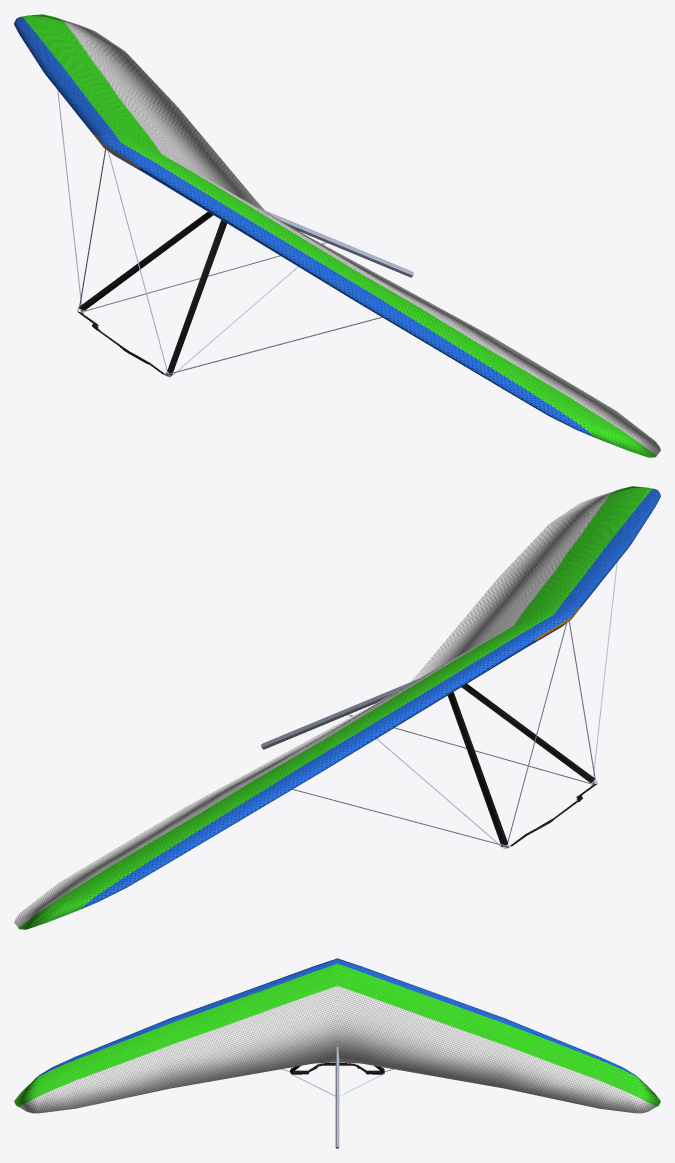
Rendered from hang-glider-green-launch-cbj_LOD01.gltf.
The picture shows the model from 3 angles, top to bottom: view 1: azimuth 30°, elevation 25°; view 2: azimuth 150°, elevation 25°; view 3: azimuth 270°, elevation 25°; orthographic projection. The views are drawn at different scales.
Visible parts, largest first — view 1: hang-glider02; view 2: hang-glider02; view 3: hang-glider02.
Boxes of the visible parts, x1,y1,x2,y2 form: hang-glider02: [14, 14, 660, 457]; hang-glider02: [14, 486, 660, 929]; hang-glider02: [14, 958, 660, 1148].
Size of the model in its own units: 2.97 by 1.9 by 10.05.
